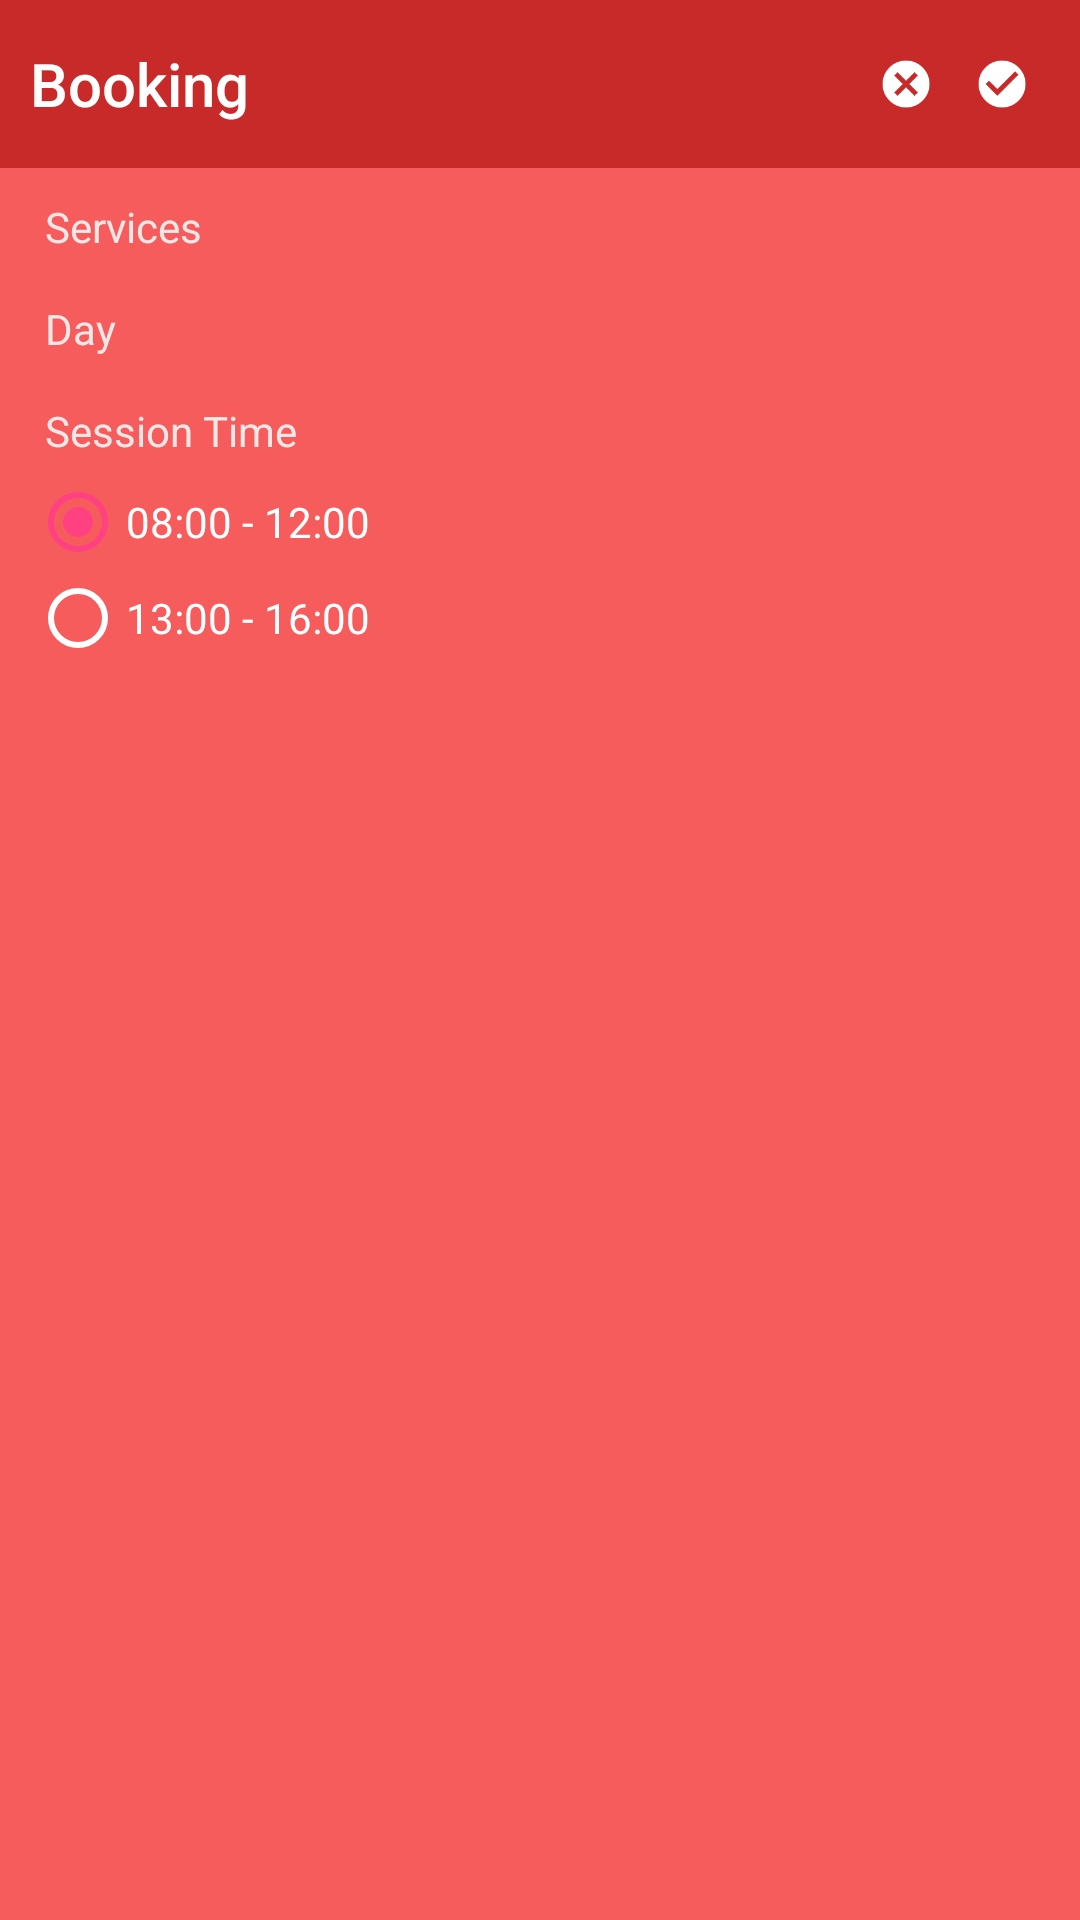

Where icons sit on this 1080px×1920px app screen, as (x1, y1, x2, y2):
cancel: (882, 60, 930, 108)
check circle: (978, 60, 1026, 108)
